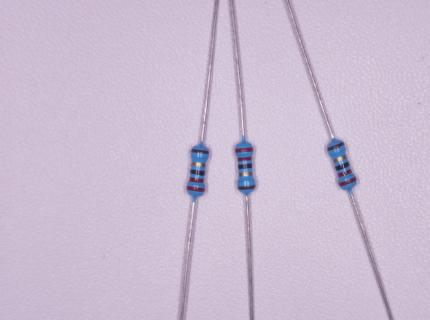Black band: (335, 161, 350, 170), (190, 169, 205, 176), (238, 164, 252, 169)
Brown band: (327, 142, 345, 152), (191, 149, 209, 154), (238, 185, 256, 190)
Gold band: (332, 154, 347, 163), (239, 171, 253, 177), (191, 162, 206, 167)
Red band: (339, 176, 357, 187), (338, 168, 353, 178), (186, 185, 206, 192), (235, 147, 254, 153), (189, 177, 204, 183), (237, 156, 252, 161)
